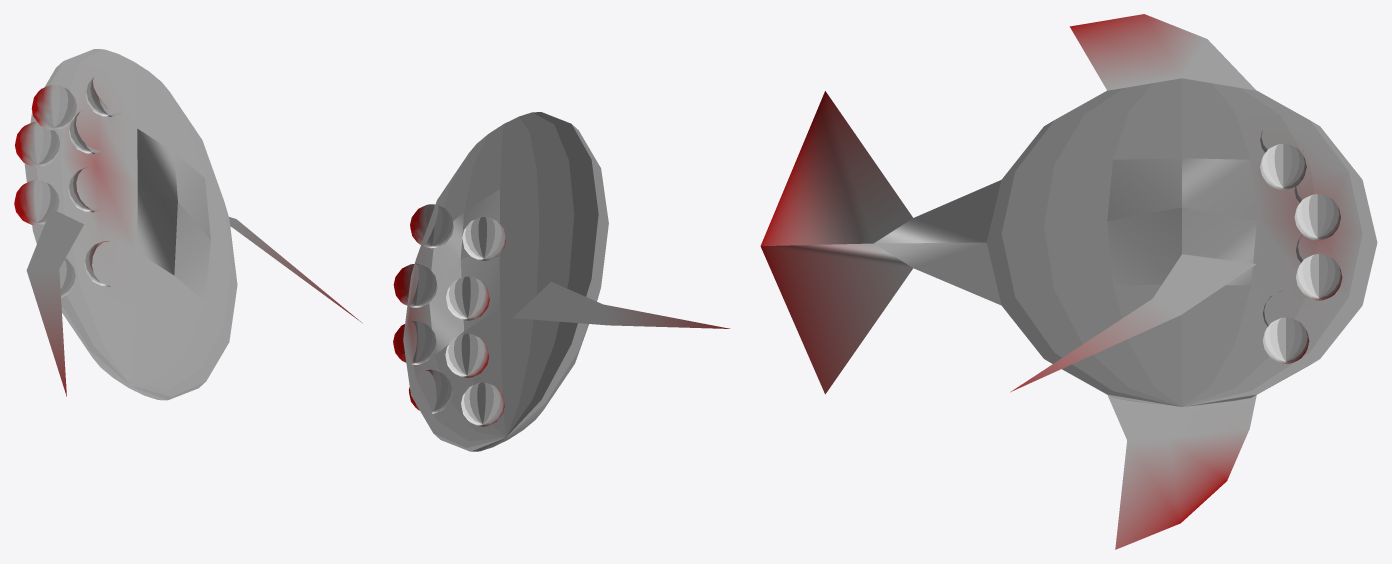
Rendered from glurm.glb.
The picture shows the model from 3 angles, left to right: view 1: azimuth 30°, elevation 25°; view 2: azimuth 150°, elevation 25°; view 3: azimuth 270°, elevation 25°; orthographic projection. The views are drawn at different scales.
Parts seen in each view (by area): view 1: Glurm; view 2: Glurm; view 3: Glurm.
Part boxes in pixels (bbox=[...]): Glurm: bbox=[14, 49, 362, 400]; Glurm: bbox=[393, 112, 730, 451]; Glurm: bbox=[760, 14, 1377, 549].
Size of the model in its own units: 0.6585 by 1.11 by 1.16.
